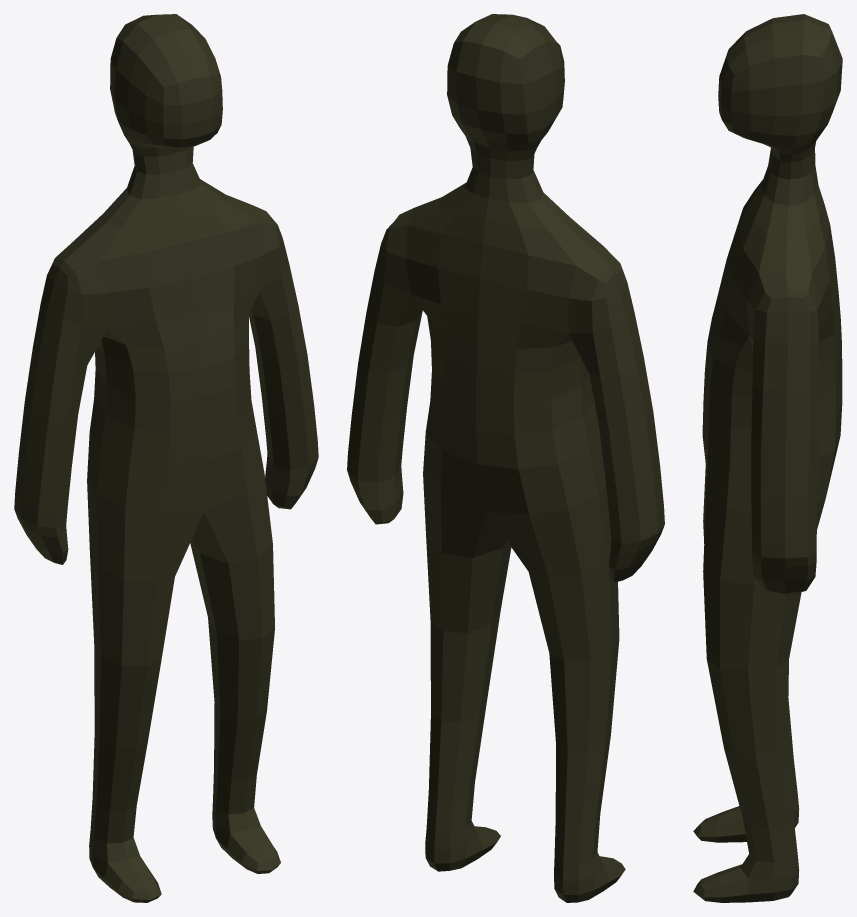
The model's file is Cuerpo.fbx.
3 views of the same model, side by side, from view 1: azimuth 30°, elevation 25°; view 2: azimuth 150°, elevation 25°; view 3: azimuth 270°, elevation 25° (orthographic). The views are drawn at different scales.
Parts seen in each view (by area): view 1: Cube; view 2: Cube; view 3: Cube.
Part boxes in pixels (left/top/right/bottom): Cube: left=14, top=14, right=318, bottom=902; Cube: left=347, top=14, right=664, bottom=902; Cube: left=693, top=14, right=842, bottom=902.
Size of the model in its own units: 250 by 685 by 109.
